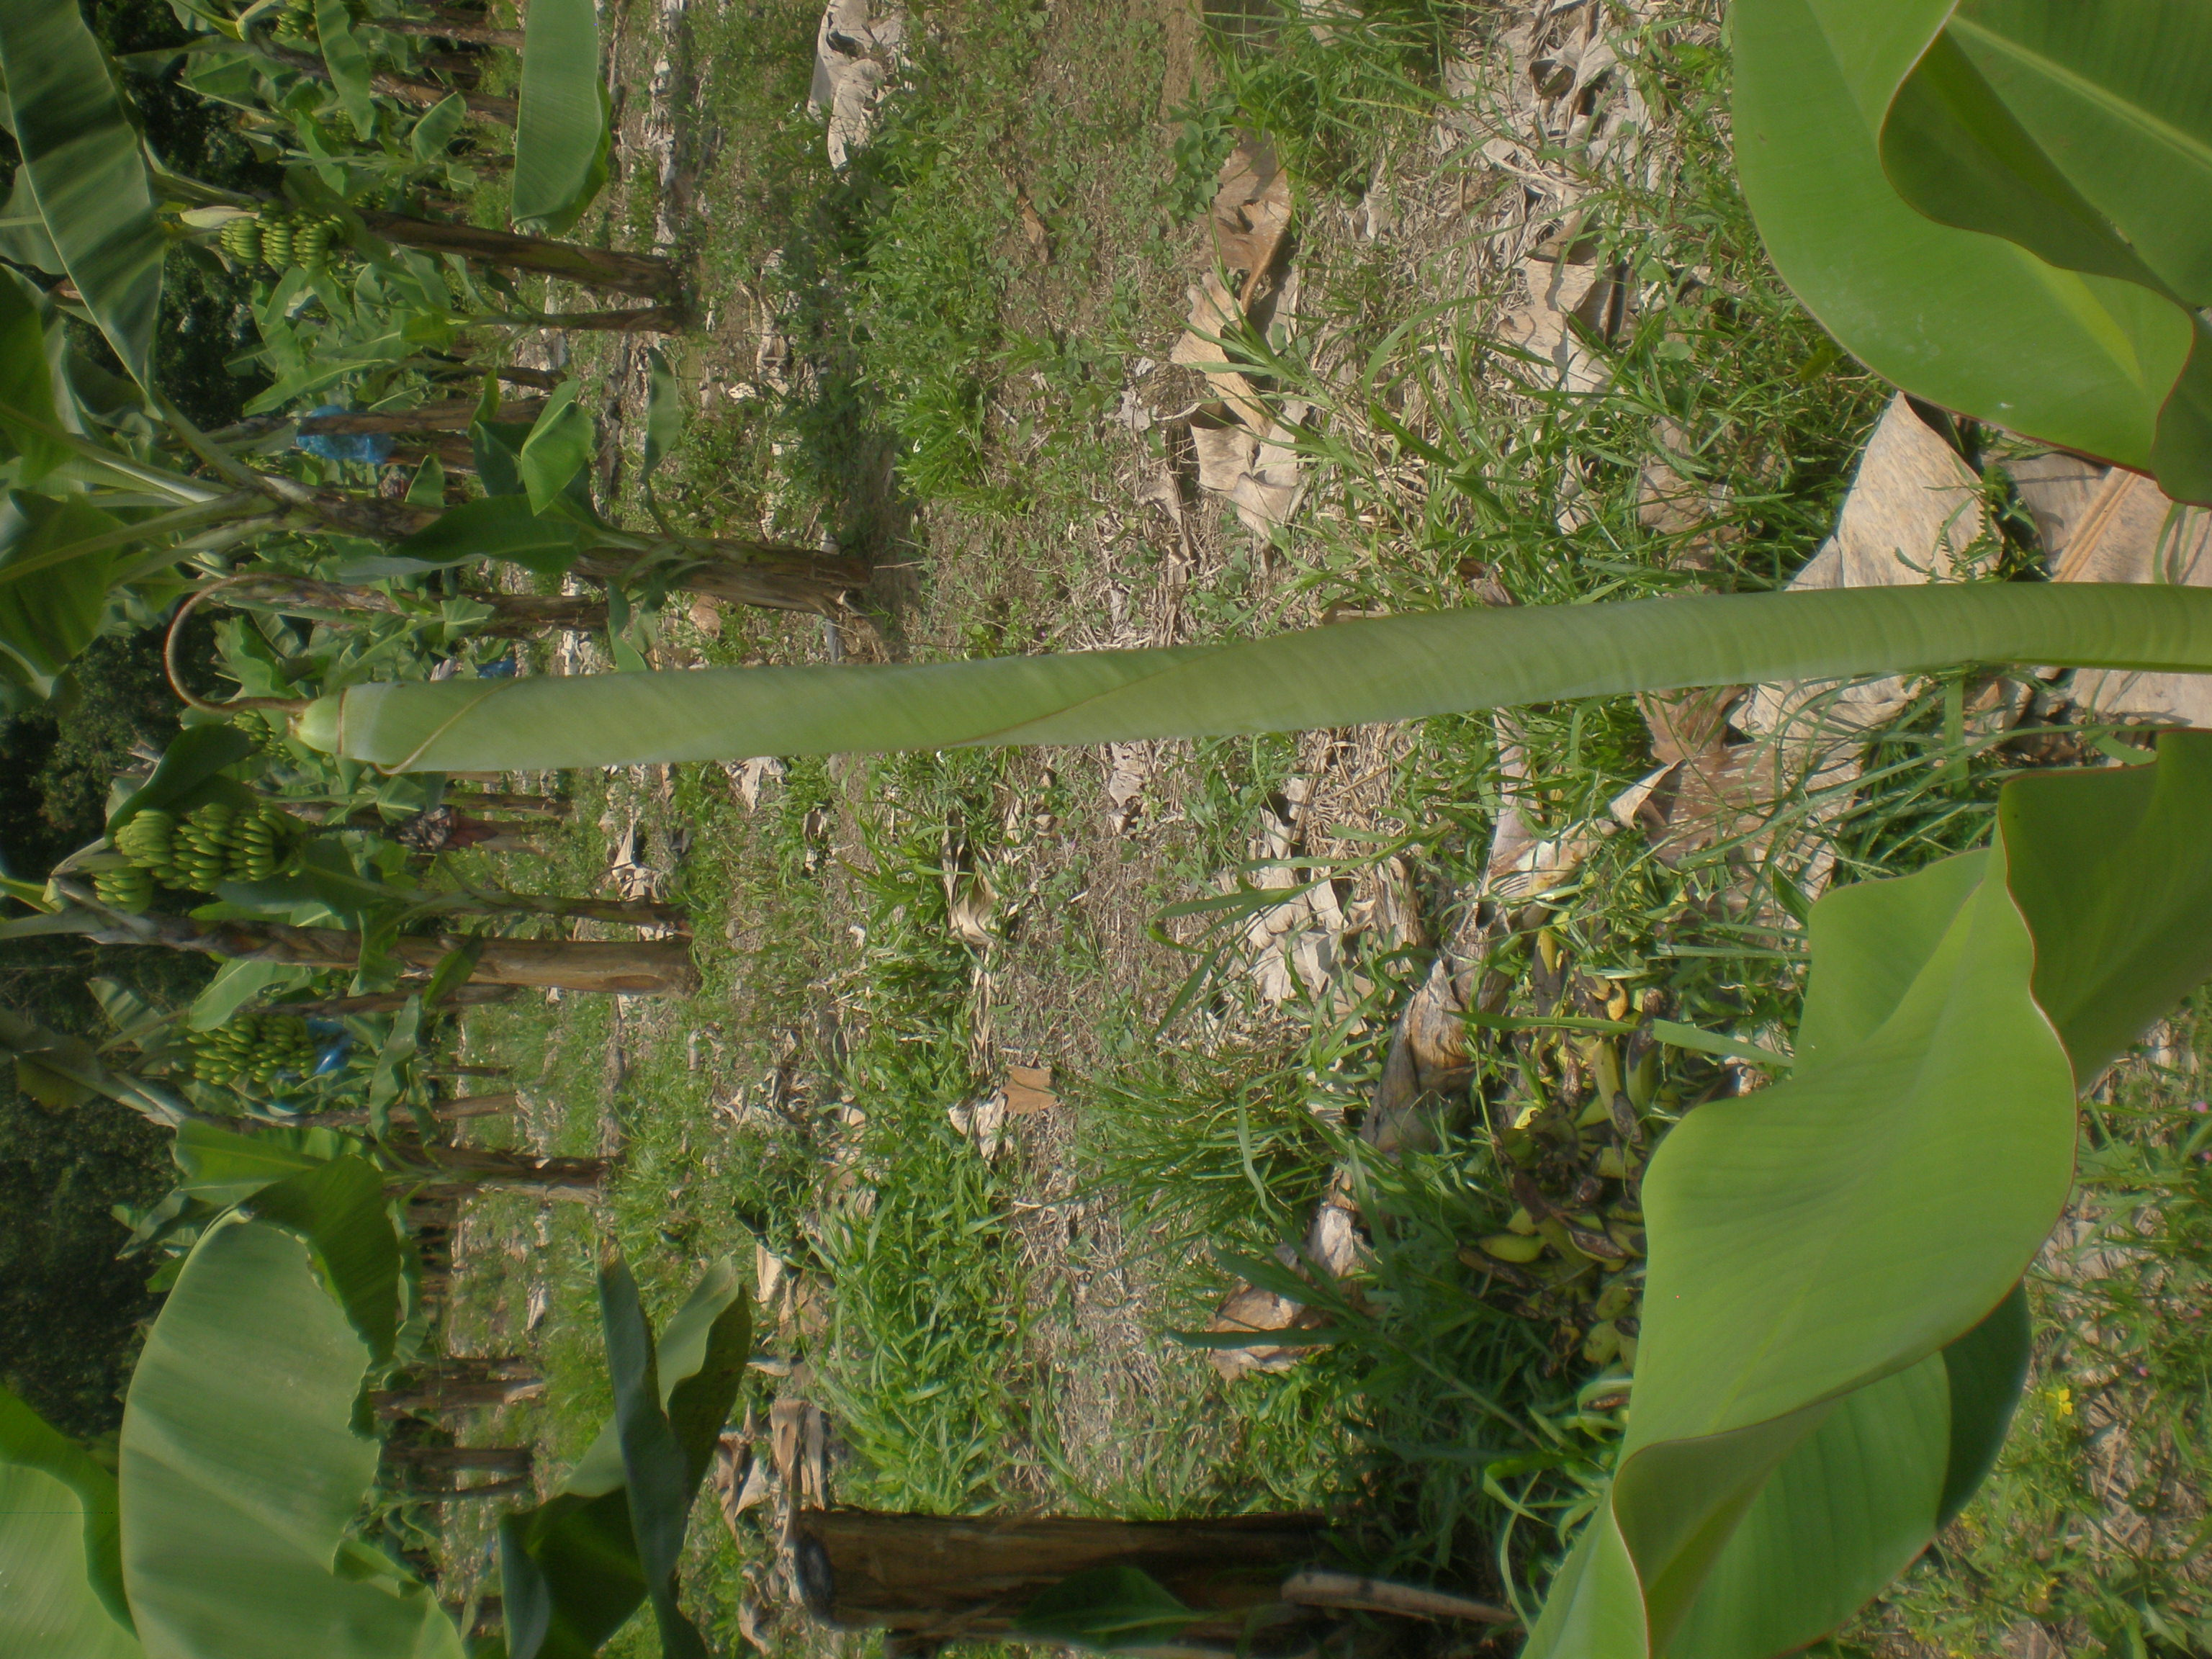candleleafs: (171, 582, 2210, 772)
